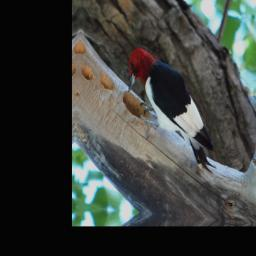Woodpecker: (122, 49, 222, 178)
